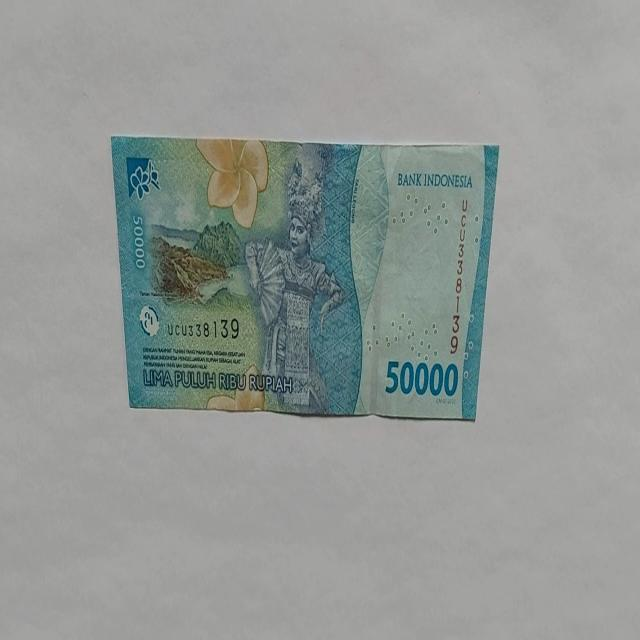lima puluh ribu rupiah: (110, 134, 500, 420)
